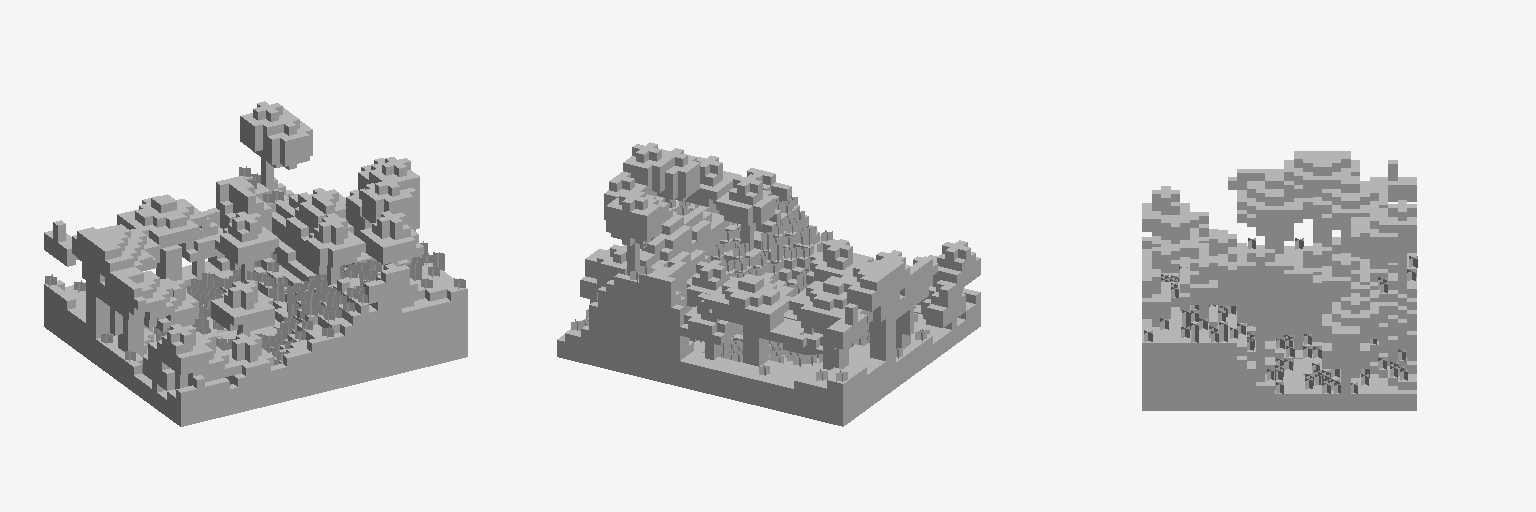
The model's file is mineways_doubleface.obj.
The picture shows the model from 3 angles: view 1: azimuth 30°, elevation 25°; view 2: azimuth 150°, elevation 25°; view 3: azimuth 270°, elevation 25°; orthographic projection.
Parts seen in each view (by area): view 1: mine_rtx__410_61_-180_to_444_255_-152; view 2: mine_rtx__410_61_-180_to_444_255_-152; view 3: mine_rtx__410_61_-180_to_444_255_-152.
Part boxes in pixels (left/top/right/bottom): mine_rtx__410_61_-180_to_444_255_-152: left=44, top=101, right=467, bottom=426; mine_rtx__410_61_-180_to_444_255_-152: left=557, top=142, right=980, bottom=426; mine_rtx__410_61_-180_to_444_255_-152: left=1142, top=151, right=1417, bottom=410.
Size of the model in its own units: 35.12 by 20 by 29.07.